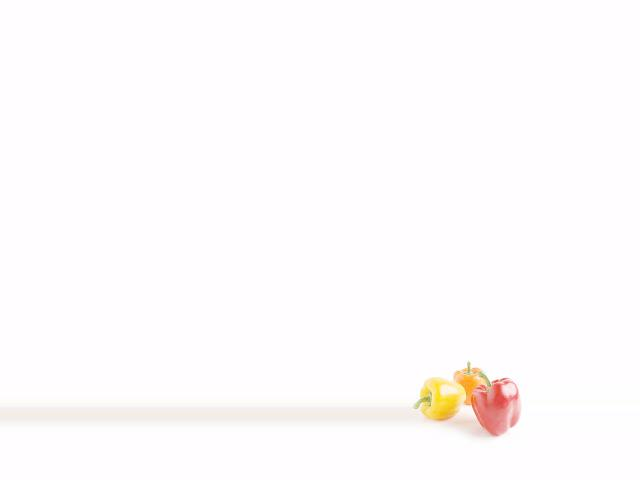bell_pepper: (468, 365, 522, 442)
